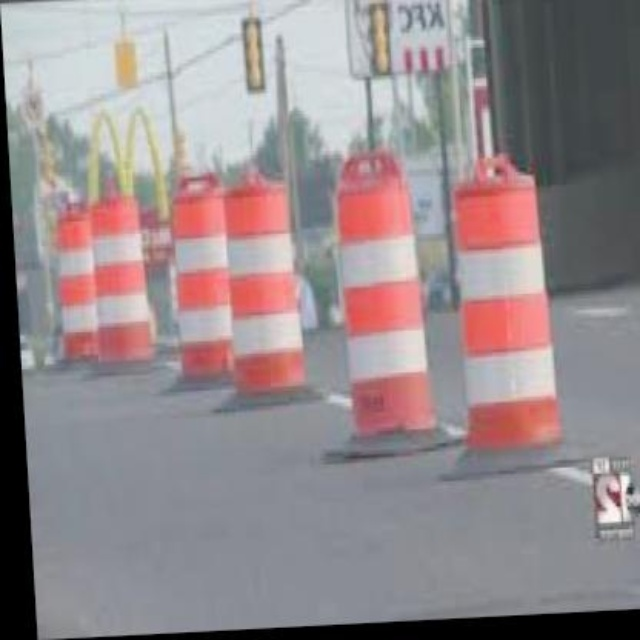obstacle: (446, 165, 554, 466), (324, 169, 435, 452), (211, 175, 301, 407), (87, 200, 148, 366)
